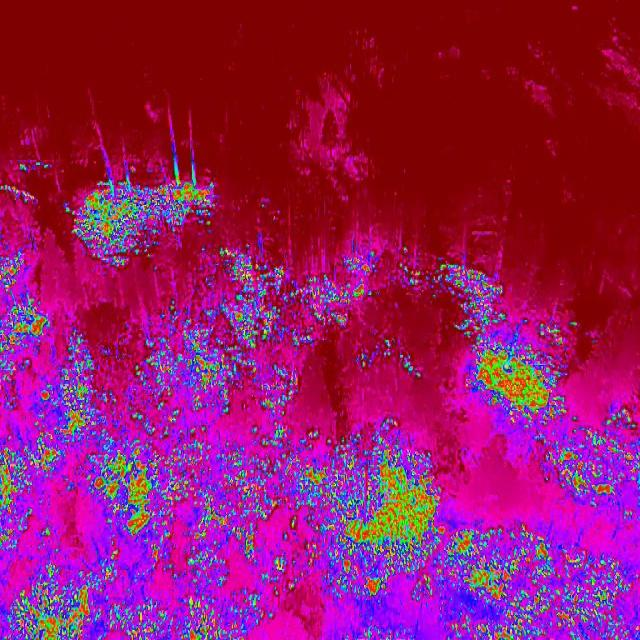fire: (0, 512, 640, 640), (0, 245, 304, 514), (70, 160, 226, 270), (462, 317, 578, 438), (304, 417, 446, 513), (538, 406, 640, 512), (400, 243, 512, 335), (304, 232, 378, 342), (356, 328, 432, 386)
